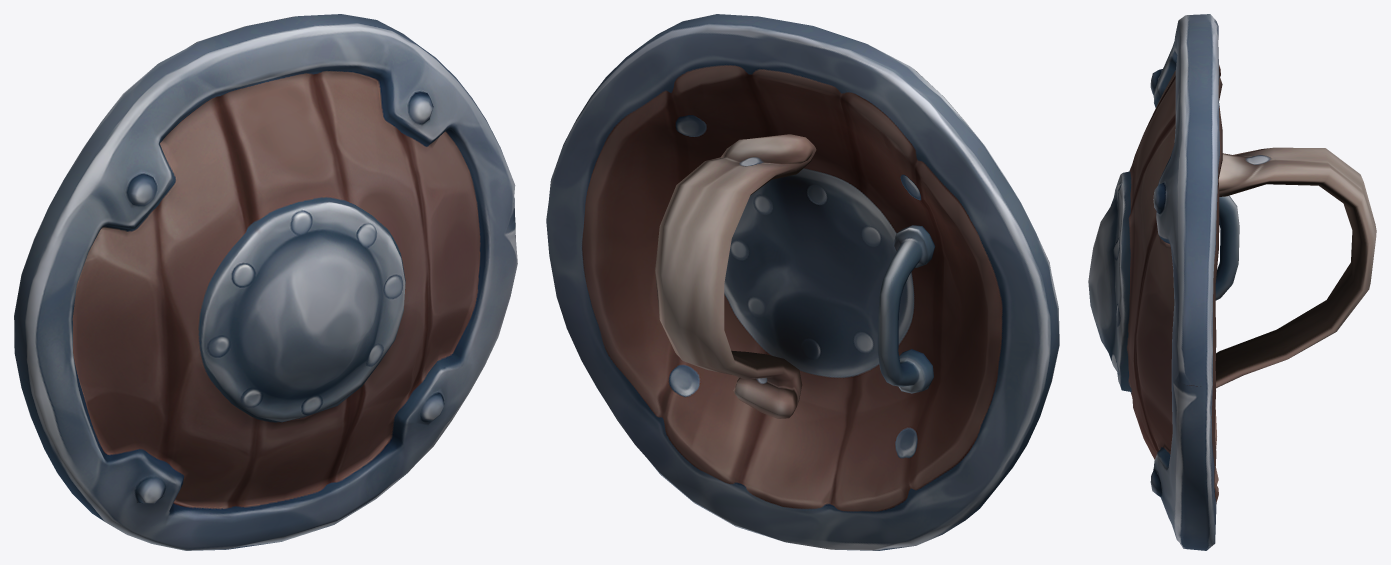
The model's file is Round Shield.FBX.
The picture shows the model from 3 angles, left to right: view 1: azimuth 30°, elevation 25°; view 2: azimuth 150°, elevation 25°; view 3: azimuth 270°, elevation 25°; orthographic projection. The views are drawn at different scales.
Parts seen in each view (by area): view 1: Round Shield; view 2: Round Shield; view 3: Round Shield.
Boxes of the visible parts, box(x1,y1,x2,y2) form: Round Shield: box(14, 14, 517, 550); Round Shield: box(546, 14, 1059, 550); Round Shield: box(1088, 14, 1376, 550).
Bounding box in the file's own units: 62.96 × 33.88 × 61.61.
1 material, 1 textured.
